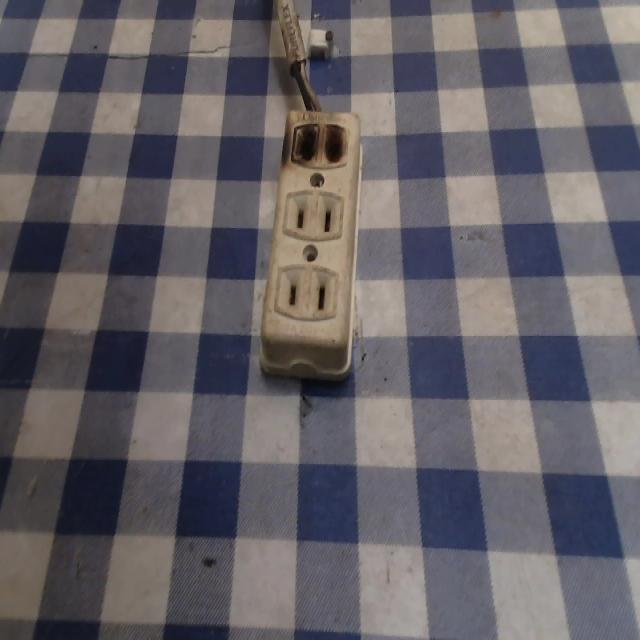-: (283, 114, 357, 174)
